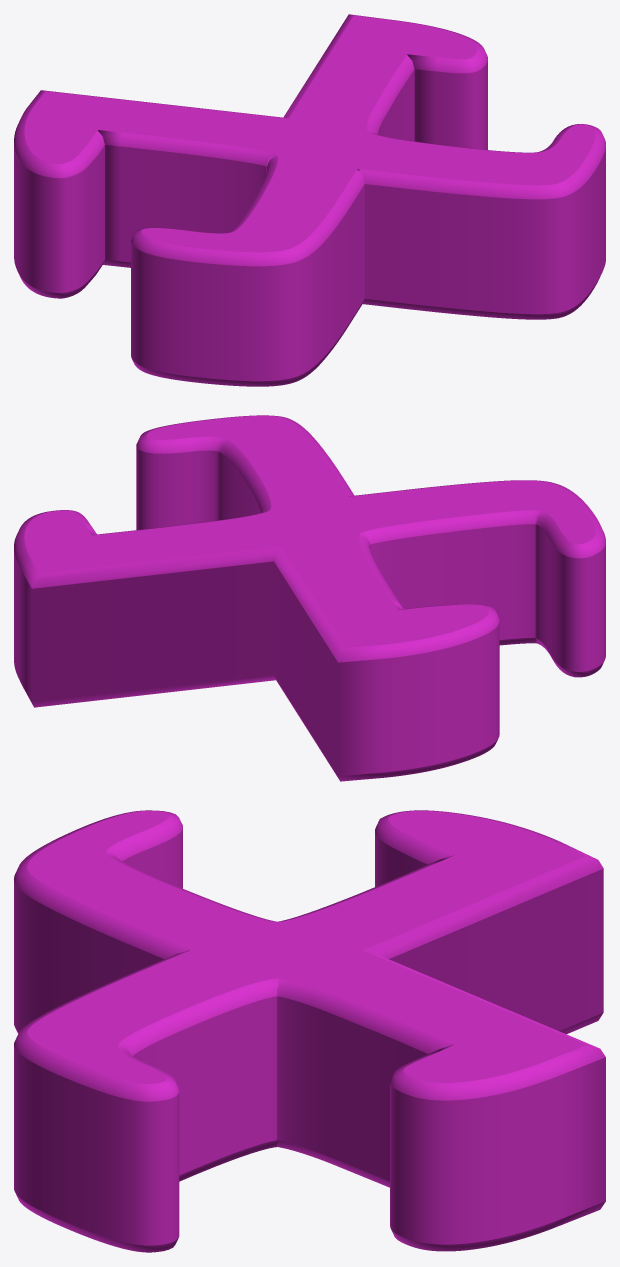
File: Letter_x_Small.fbx
3 renders of one model, top to bottom at view 1: azimuth 30°, elevation 25°; view 2: azimuth 150°, elevation 25°; view 3: azimuth 270°, elevation 25°, orthographic. The views are drawn at different scales.
Parts seen in each view (by area): view 1: Letter_x; view 2: Letter_x; view 3: Letter_x.
Part boxes in pixels (x1,y1,x2,y2): Letter_x: [14, 14, 605, 386]; Letter_x: [14, 415, 605, 781]; Letter_x: [14, 810, 605, 1252].
Size of the model in its own units: 0.5084 by 0.14 by 0.447.
